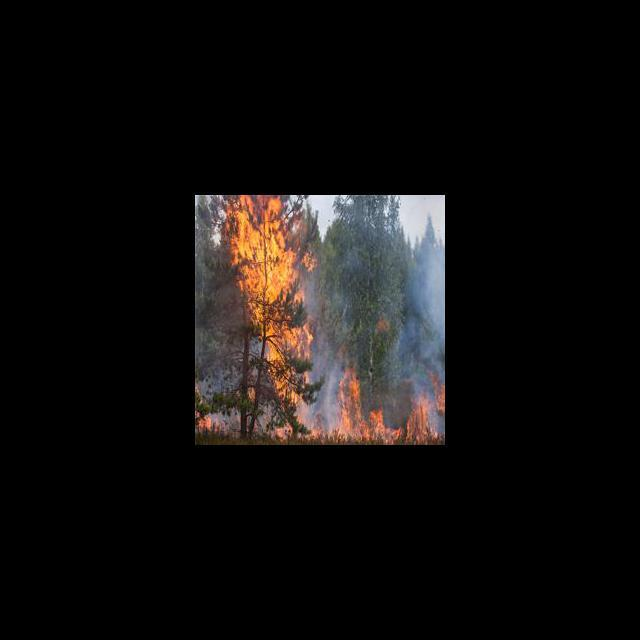Fire: (225, 195, 319, 404), (195, 377, 444, 444)
Smoke: (408, 248, 445, 338)
